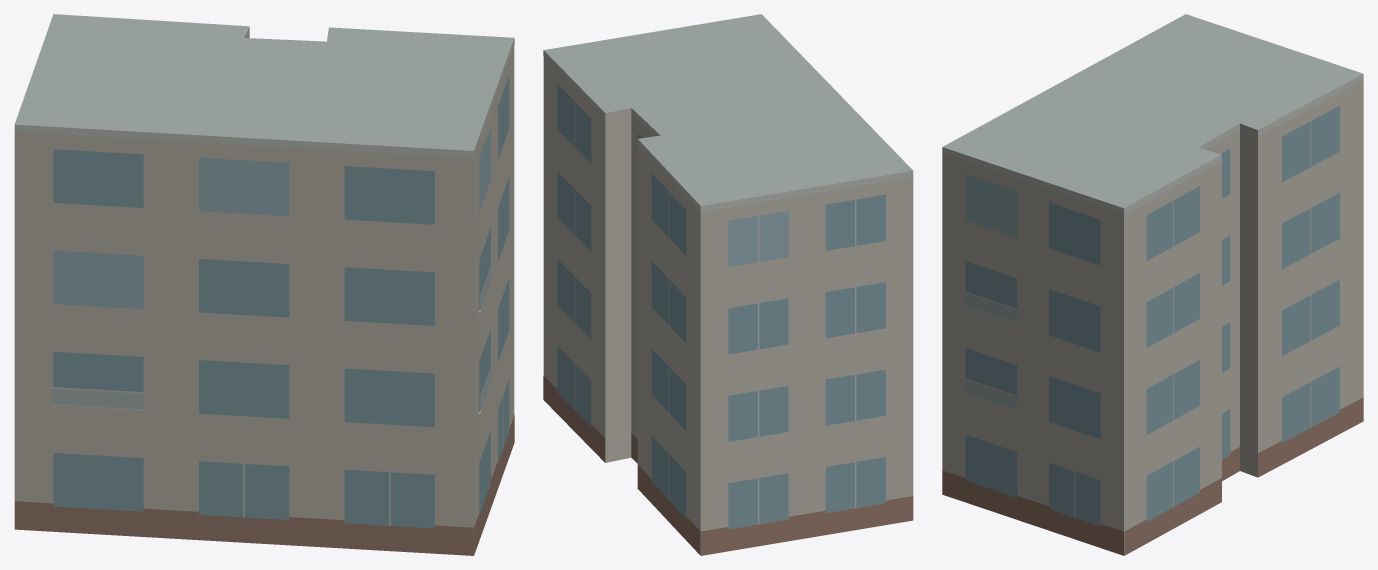
Rendered from survey-upis-33005451.glb.
3 renders of one model, left to right at view 1: azimuth 30°, elevation 25°; view 2: azimuth 150°, elevation 25°; view 3: azimuth 270°, elevation 25°, orthographic. The views are drawn at different scales.
Parts seen in each view (by area): view 1: survey-upis-33005451.tmp; view 2: survey-upis-33005451.tmp; view 3: survey-upis-33005451.tmp.
Boxes of the visible parts, <box> form: survey-upis-33005451.tmp: <box>14,14,514,555</box>; survey-upis-33005451.tmp: <box>543,14,913,555</box>; survey-upis-33005451.tmp: <box>942,14,1363,555</box>.
Bounding box in the file's own units: 16.62 × 13.85 × 15.23.
